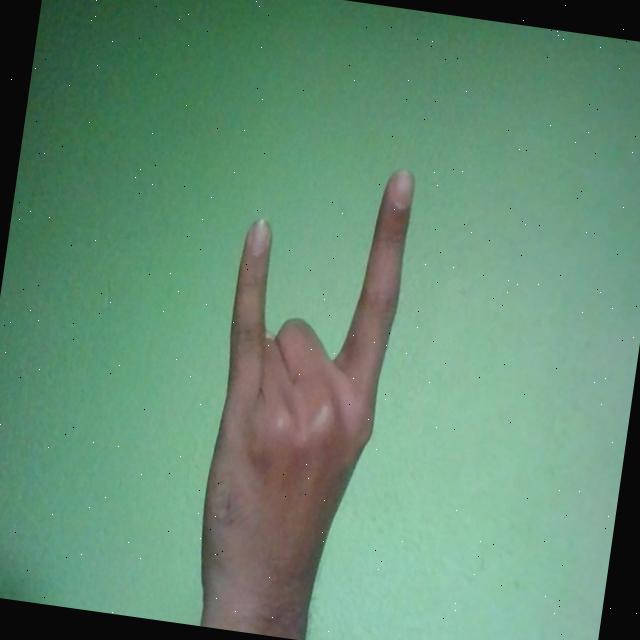open Plam: (187, 145, 417, 640)
